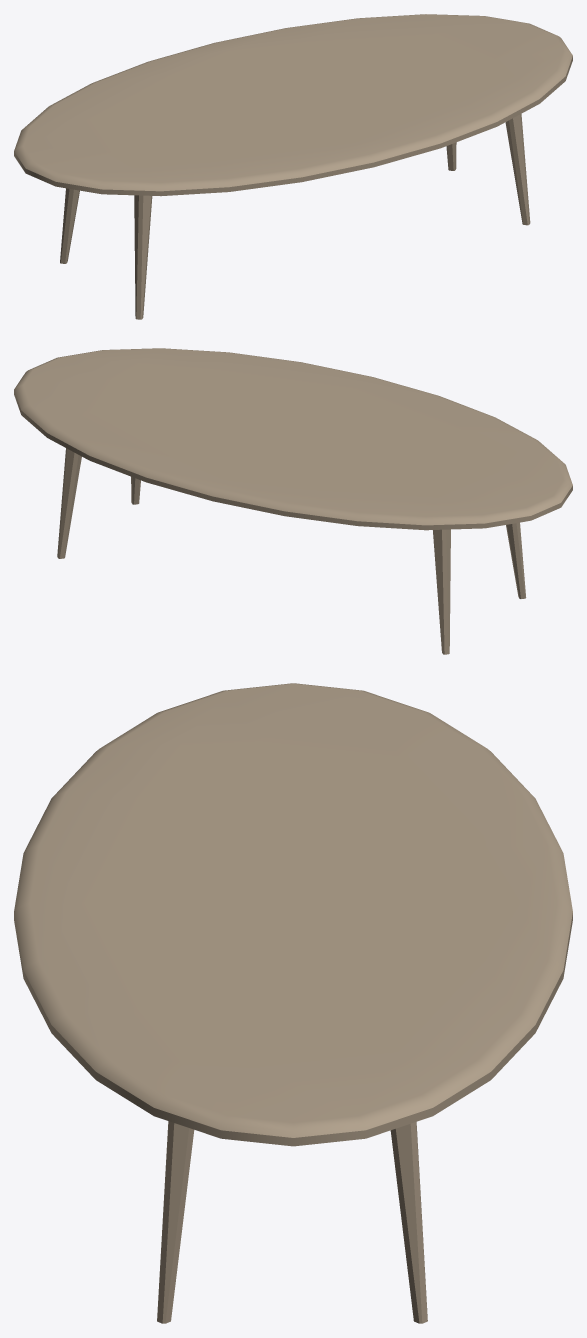
The model's file is Wooden Coffee Table .fbx.
3 renders of one model, top to bottom at view 1: azimuth 30°, elevation 25°; view 2: azimuth 150°, elevation 25°; view 3: azimuth 270°, elevation 25°, orthographic. The views are drawn at different scales.
Parts seen in each view (by area): view 1: group8_pCube46; view 2: group8_pCube46; view 3: group8_pCube46.
Boxes of the visible parts, x1,y1,x2,y2 form: group8_pCube46: (14,14,572,319); group8_pCube46: (14,348,572,654); group8_pCube46: (14,683,572,1323).
Size of the model in its own units: 2 by 0.5196 by 1.04.
